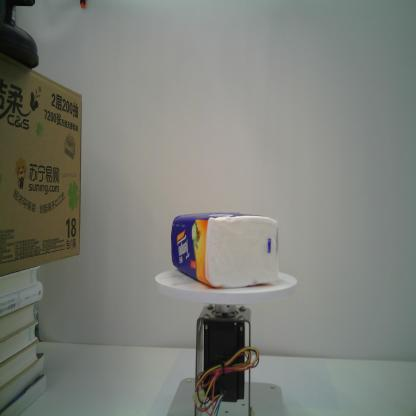Tissue: (170, 210, 280, 289)
